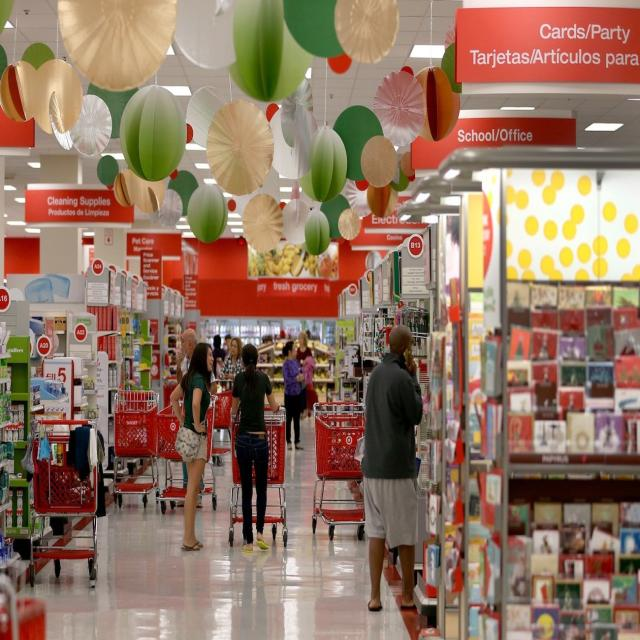body: (501, 283, 640, 640), (357, 320, 432, 615), (167, 340, 218, 555), (230, 342, 281, 554), (175, 326, 206, 510), (280, 338, 306, 454), (295, 329, 319, 419), (335, 320, 359, 382), (218, 334, 245, 382), (212, 334, 227, 380), (304, 319, 320, 339), (223, 332, 231, 353)
